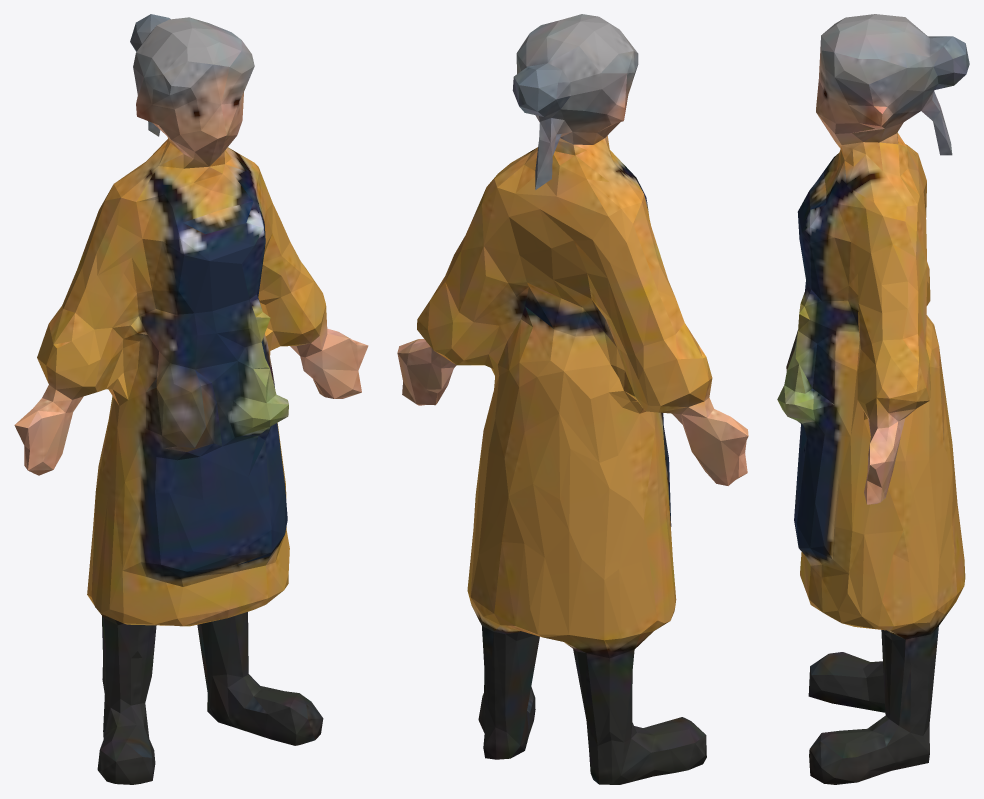
Rendered from habitant-loin.glb.
3 views of the same model, side by side, from view 1: azimuth 30°, elevation 25°; view 2: azimuth 150°, elevation 25°; view 3: azimuth 270°, elevation 25° (orthographic). The views are drawn at different scales.
Parts seen in each view (by area): view 1: habitant; view 2: habitant; view 3: habitant.
Boxes of the visible parts, x1,y1,x2,y2 form: habitant: (14, 14, 368, 784); habitant: (397, 14, 748, 784); habitant: (777, 14, 969, 784).
Bounding box in the file's own units: 0.5127 × 1.01 × 0.2462.
1 material, 1 textured.
